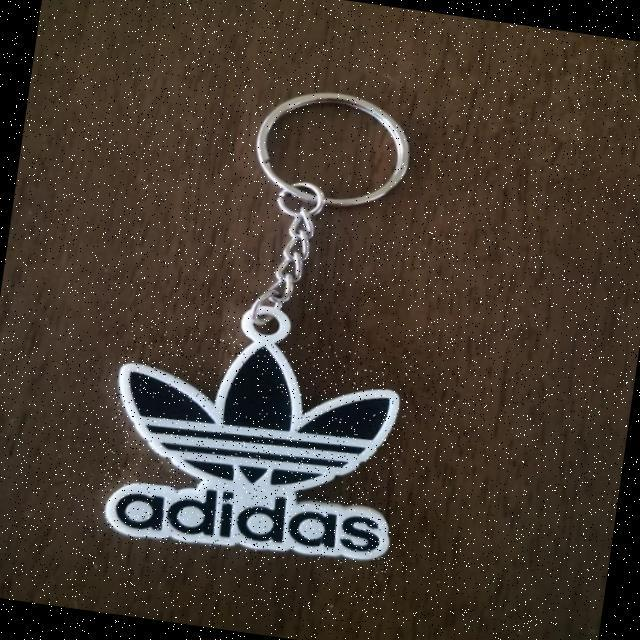Adidas: (97, 317, 417, 576)
